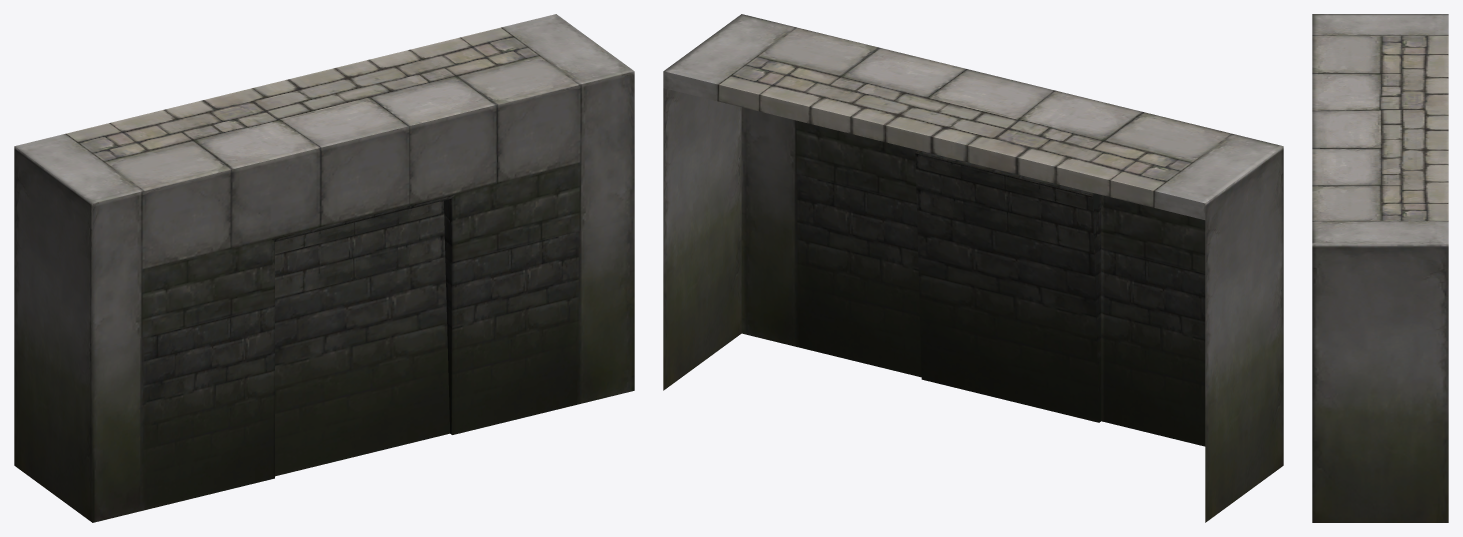
File: quaypart_03.fbx
3 views of the same model, side by side, from view 1: azimuth 30°, elevation 25°; view 2: azimuth 150°, elevation 25°; view 3: azimuth 270°, elevation 25° (orthographic). The views are drawn at different scales.
Parts seen in each view (by area): view 1: GEOM0_LOD0; view 2: GEOM0_LOD0; view 3: GEOM0_LOD0.
Part boxes in pixels (left/top/right/bottom): GEOM0_LOD0: left=14, top=14, right=634, bottom=522; GEOM0_LOD0: left=663, top=14, right=1283, bottom=522; GEOM0_LOD0: left=1312, top=14, right=1448, bottom=522.
Size of what is drawn, in the model's own units: 800 by 451 by 200.
